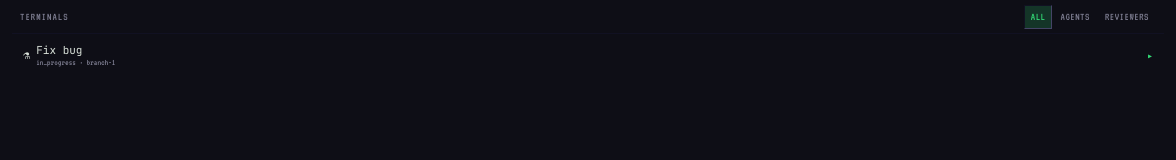
Test case: AgentTerminalList › rendering agent items › hides agent items when filter is REVIEWERS
Click the tab "REVIEWERS": (1127, 17) [1098,5,1156,29]
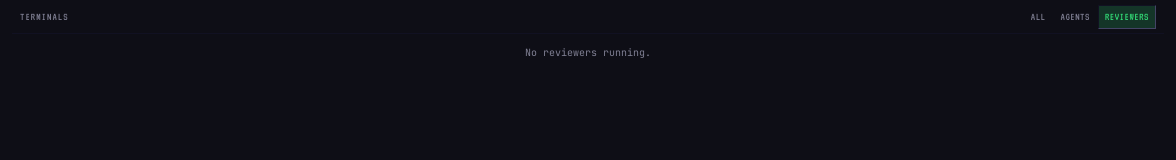
expect the button "Fix bug" is gone: met
